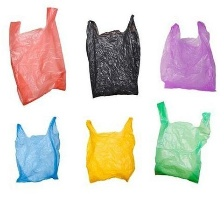plastic_bag: (2, 1, 67, 105), (80, 12, 144, 101), (152, 100, 215, 188), (156, 16, 218, 94), (81, 111, 138, 187), (12, 112, 66, 186)
